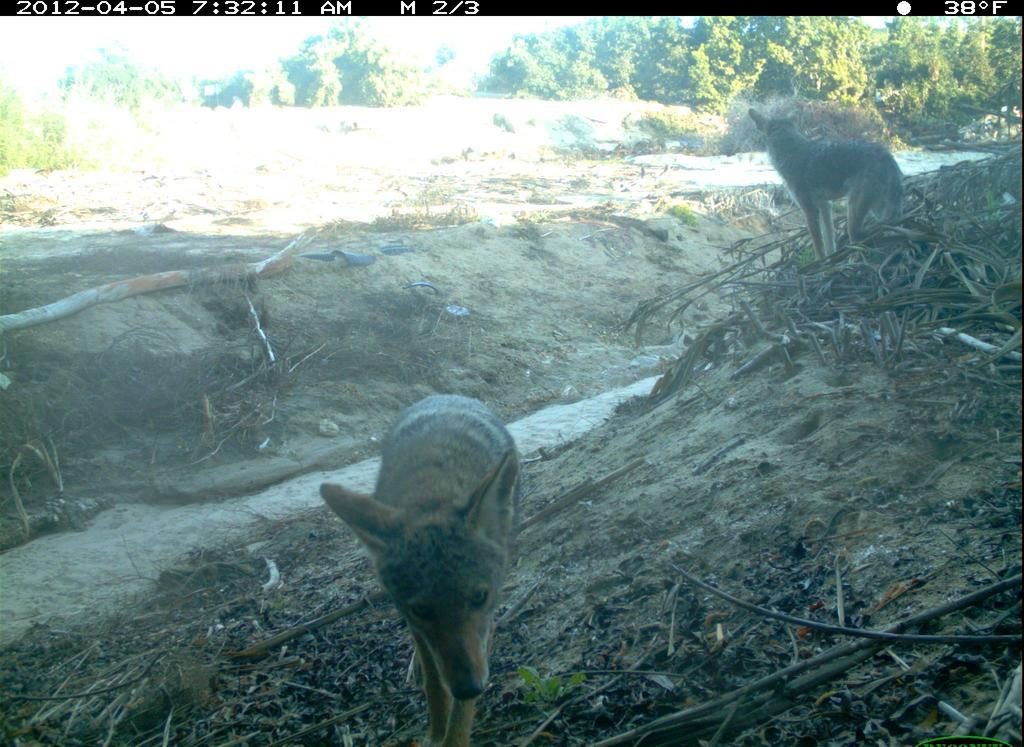coyote: (322, 369, 533, 738), (740, 101, 918, 260)
